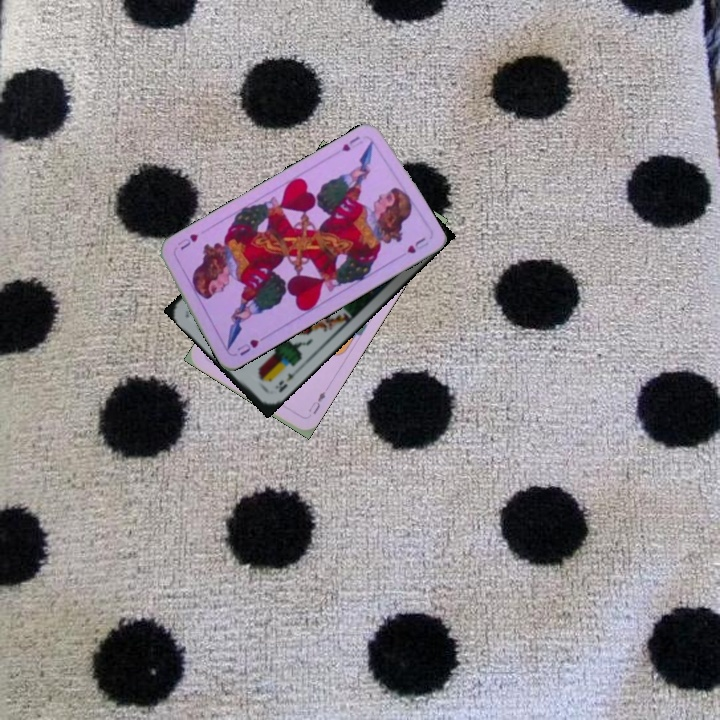EK: (271, 366, 300, 395)
EU: (304, 387, 328, 417)
HU: (233, 335, 261, 358), (337, 132, 362, 154)
